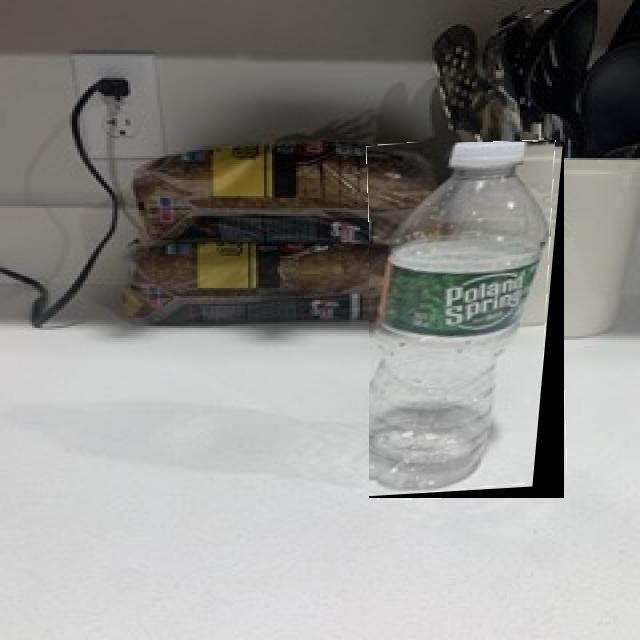water_bottle: (369, 142, 564, 498)
